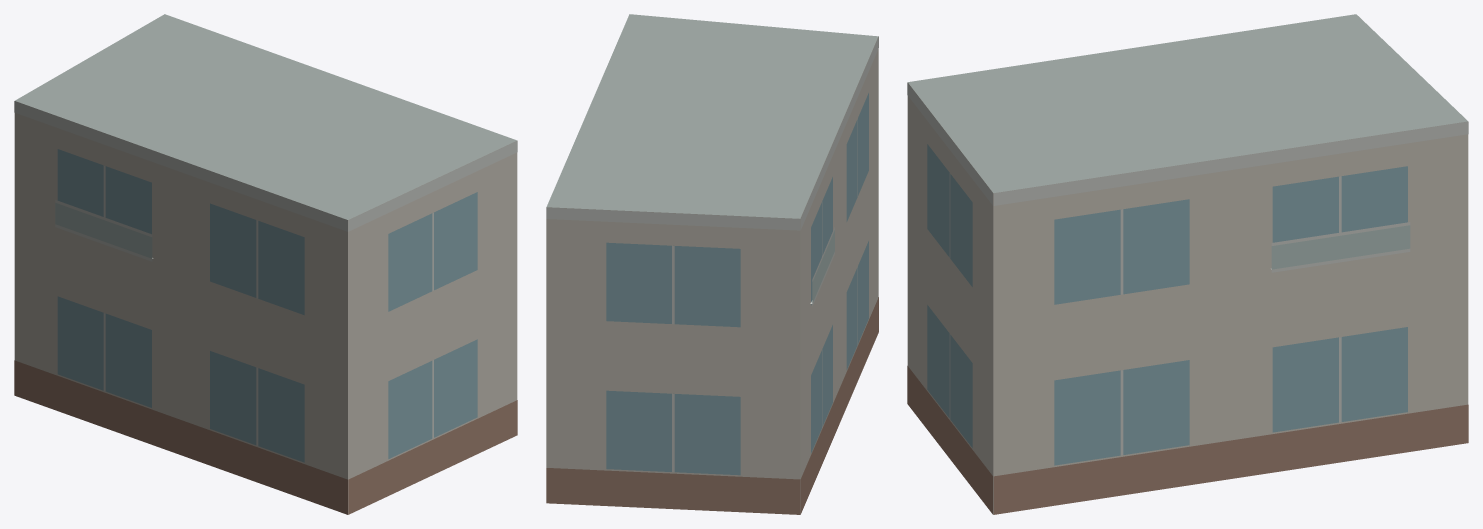
Rendered from survey-upis-32486682.glb.
3 renders of one model, left to right at view 1: azimuth 30°, elevation 25°; view 2: azimuth 150°, elevation 25°; view 3: azimuth 270°, elevation 25°, orthographic. The views are drawn at different scales.
Parts seen in each view (by area): view 1: survey-upis-32486682.tmp; view 2: survey-upis-32486682.tmp; view 3: survey-upis-32486682.tmp.
Boxes of the visible parts, x1=… form: survey-upis-32486682.tmp: x1=14, y1=14, x2=517, y2=514; survey-upis-32486682.tmp: x1=546, y1=14, x2=878, y2=514; survey-upis-32486682.tmp: x1=907, y1=14, x2=1468, y2=514.
Bounding box in the file's own units: 7.3 × 6.1 × 9.65.
